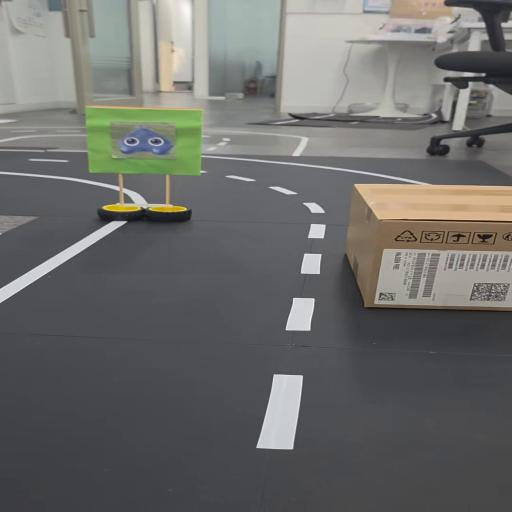Box: (344, 184, 512, 312)
Sign_B: (77, 99, 217, 227)
